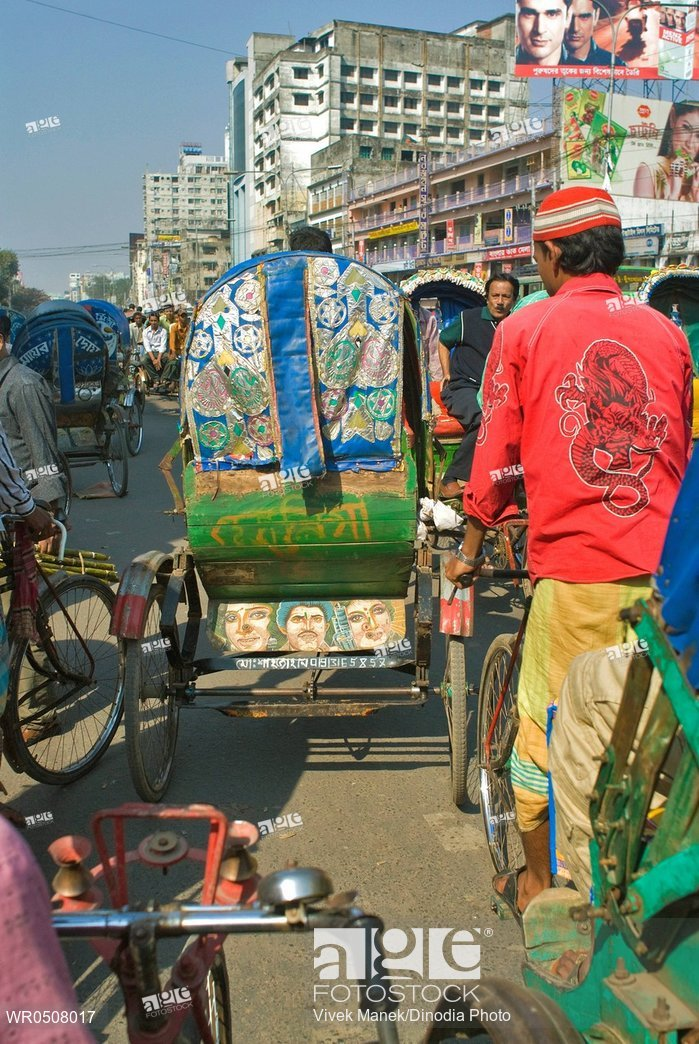Rickshaw: (153, 268, 483, 762), (540, 384, 696, 1040), (415, 217, 537, 484), (19, 270, 117, 484), (87, 258, 150, 446), (645, 227, 698, 416)
